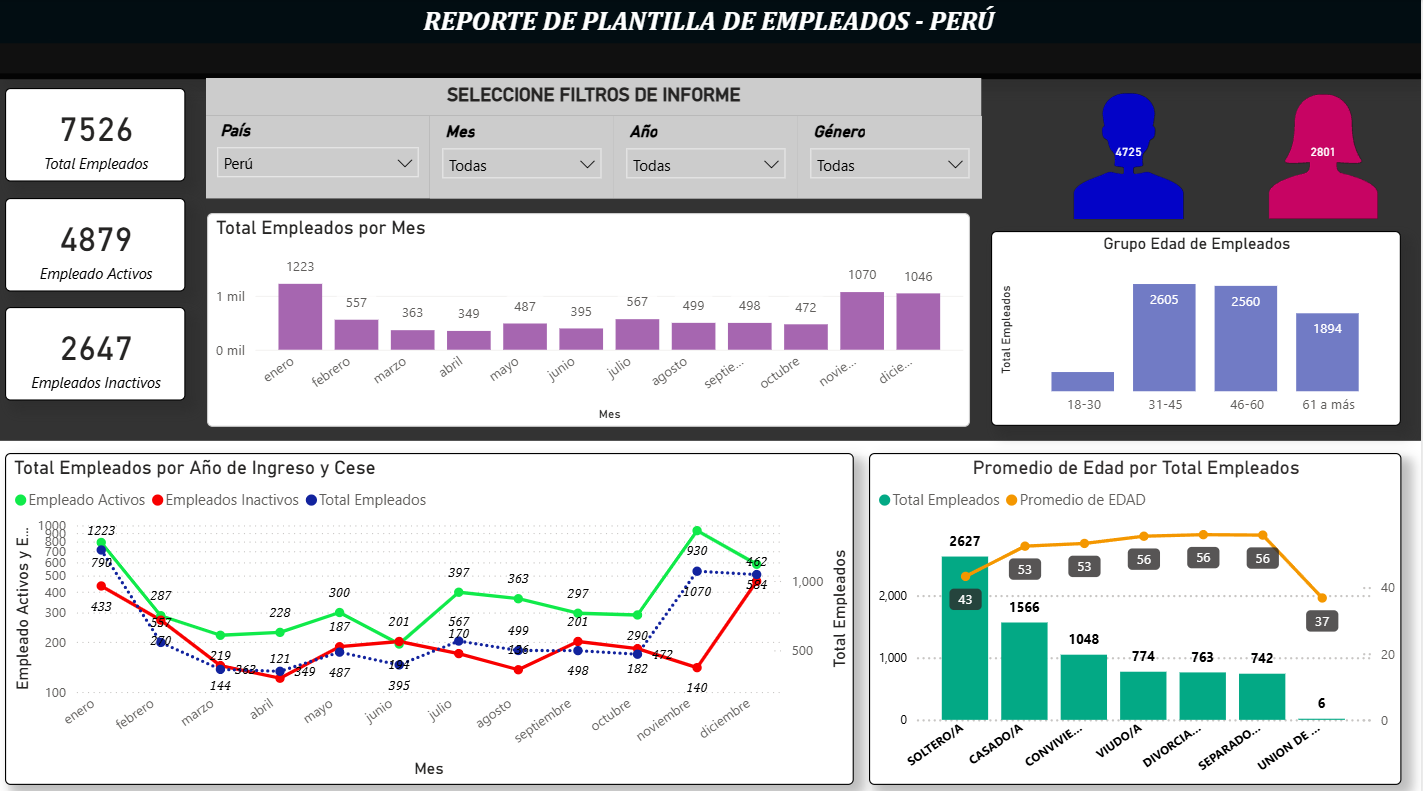

This screenshot's page, from the dashboard's own definition file:
{"tool":"powerbi","page":{"name":"REPORTE PERÚ","canvas":[1280,720],"ordinal":1},"visuals":[{"type":"textbox","box":[0,0,1279.6,72.4],"z":0},{"type":"card","fields":{"Values":["Medidas.Total Empleados"]},"box":[8.4,79.6,161.6,84.4],"z":1000},{"type":"card","fields":{"Values":["Medidas.Empleado Activos"]},"box":[8.4,178.5,161.6,84.4],"z":2000},{"type":"card","fields":{"Values":["Medidas.Empleados Inactivos"]},"box":[8.4,276.2,161.6,84.4],"z":3000},{"type":"slicer","fields":{"Values":["Sociedad.País"]},"box":[188.8,105,201.2,73.8],"z":5000},{"type":"clusteredColumnChart","title":"Grupo Edad de Empleados","fields":{"Category":["Empleados.Grupo Edad Empleados"],"Y":["Medidas.Total Empleados"]},"box":[893.7,208.6,367.8,174.9],"z":6000},{"type":"slicer","fields":{"Values":["Rotacion.Fecha_Ingreso.Variación.Jerarquía de fechas.Año"]},"box":[555,105,165,73.8],"z":7000},{"type":"slicer","fields":{"Values":["Rotacion.Fecha_Ingreso.Variación.Jerarquía de fechas.Mes"]},"box":[390,105,165,73.8],"z":8000},{"type":"textbox","box":[188.8,71.2,696.2,33.8],"z":9000},{"type":"lineStackedColumnComboChart","fields":{"Category":["Rotacion.Fecha_Ingreso.Variación.Jerarquía de fechas.Mes"],"Y":["Medidas.Total Empleados"]},"box":[189.3,191.8,685,191.8],"z":10000},{"type":"lineChart","title":"Total Empleados por Año de Ingreso y Cese","fields":{"Y":["Medidas.Empleado Activos","Medidas.Empleados Inactivos"],"Category":["Rotacion.Fecha_Ingreso.Variación.Jerarquía de fechas.Mes"],"Y2":["Medidas.Total Empleados"]},"box":[8.4,407.6,762.2,297.9],"z":11000},{"type":"PBI_CV_815282F9_27F5_4950_9430_E910E0A8DB6A","fields":{"Category":["Empleados.Género"],"Y":["Medidas.Total Empleados"]},"box":[1105.9,74.8,171.3,133.9],"z":12000},{"type":"PBI_CV_815282F9_27F5_4950_9430_E910E0A8DB6A","fields":{"Y":["Medidas.Total Empleados"],"Category":["Empleados.Género"]},"box":[928.6,73.6,177.3,135.1],"z":13000},{"type":"slicer","fields":{"Values":["Empleados.Género"]},"box":[720,105,165,73.8],"z":14000},{"type":"lineStackedColumnComboChart","title":"Promedio de Edad por Total Empleados","fields":{"Category":["Empleados.Estado_Civil"],"Y":["Medidas.Total Empleados"],"Y2":["Avg(Empleados.EDAD)"]},"box":[783.9,407.6,477.6,297.9],"z":15000}]}

Visuals, with their boxes in screenshot pixels (x1, y1, x2, y2), scaled from the page's 1280x720 canvas onto the 1423x791 screenshot:
textbox: pyautogui.locateOnScreen(0, 0, 1422, 80)
card - Medidas.Total Empleados: pyautogui.locateOnScreen(9, 87, 189, 180)
card - Medidas.Empleado Activos: pyautogui.locateOnScreen(9, 196, 189, 289)
card - Medidas.Empleados Inactivos: pyautogui.locateOnScreen(9, 303, 189, 396)
slicer - Sociedad.País: pyautogui.locateOnScreen(210, 115, 434, 196)
"Grupo Edad de Empleados" clusteredColumnChart: pyautogui.locateOnScreen(994, 229, 1402, 421)
slicer - Rotacion.Fecha_Ingreso.Variación.Jerarquía de fechas.Año: pyautogui.locateOnScreen(617, 115, 800, 196)
slicer - Rotacion.Fecha_Ingreso.Variación.Jerarquía de fechas.Mes: pyautogui.locateOnScreen(434, 115, 617, 196)
textbox: pyautogui.locateOnScreen(210, 78, 984, 115)
lineStackedColumnComboChart - Rotacion.Fecha_Ingreso.Variación.Jerarquía de fechas.Mes x Medidas.Total Empleados: pyautogui.locateOnScreen(210, 211, 972, 421)
"Total Empleados por Año de Ingreso y Cese" lineChart: pyautogui.locateOnScreen(9, 448, 857, 775)
PBI_CV_815282F9_27F5_4950_9430_E910E0A8DB6A - Empleados.Género x Medidas.Total Empleados: pyautogui.locateOnScreen(1229, 82, 1420, 229)
PBI_CV_815282F9_27F5_4950_9430_E910E0A8DB6A - Medidas.Total Empleados x Empleados.Género: pyautogui.locateOnScreen(1032, 81, 1229, 229)
slicer - Empleados.Género: pyautogui.locateOnScreen(800, 115, 984, 196)
"Promedio de Edad por Total Empleados" lineStackedColumnComboChart: pyautogui.locateOnScreen(871, 448, 1402, 775)
